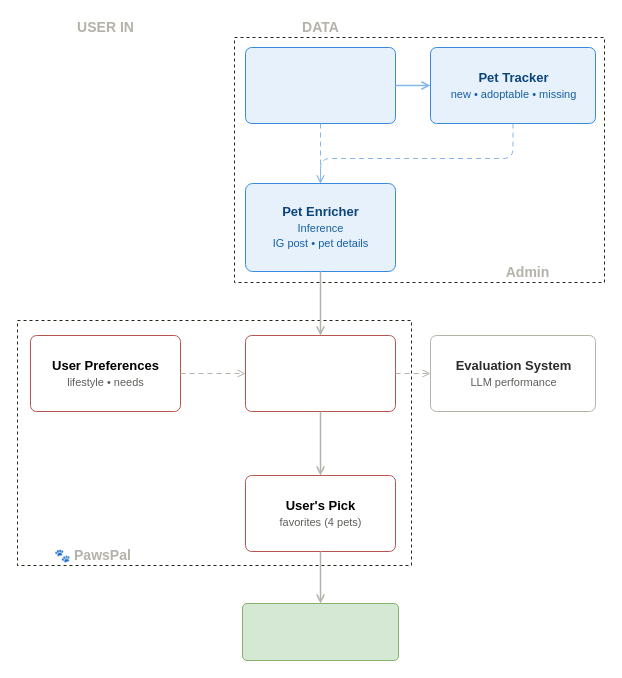
Some shapes in this 622 by 678 pixel diagram are drawn without their labels. Each missing label, with the centre of its shape:
"Scraper loveanimalsbcn.com IG adopta.loveanimals.bcn" goes at (x=320, y=85).
"Shelter receives email 🎉 process starts" goes at (x=320, y=631).
"🐾 PawsPal: Matcher Inference prefs ↔ pet details" goes at (x=320, y=373).
